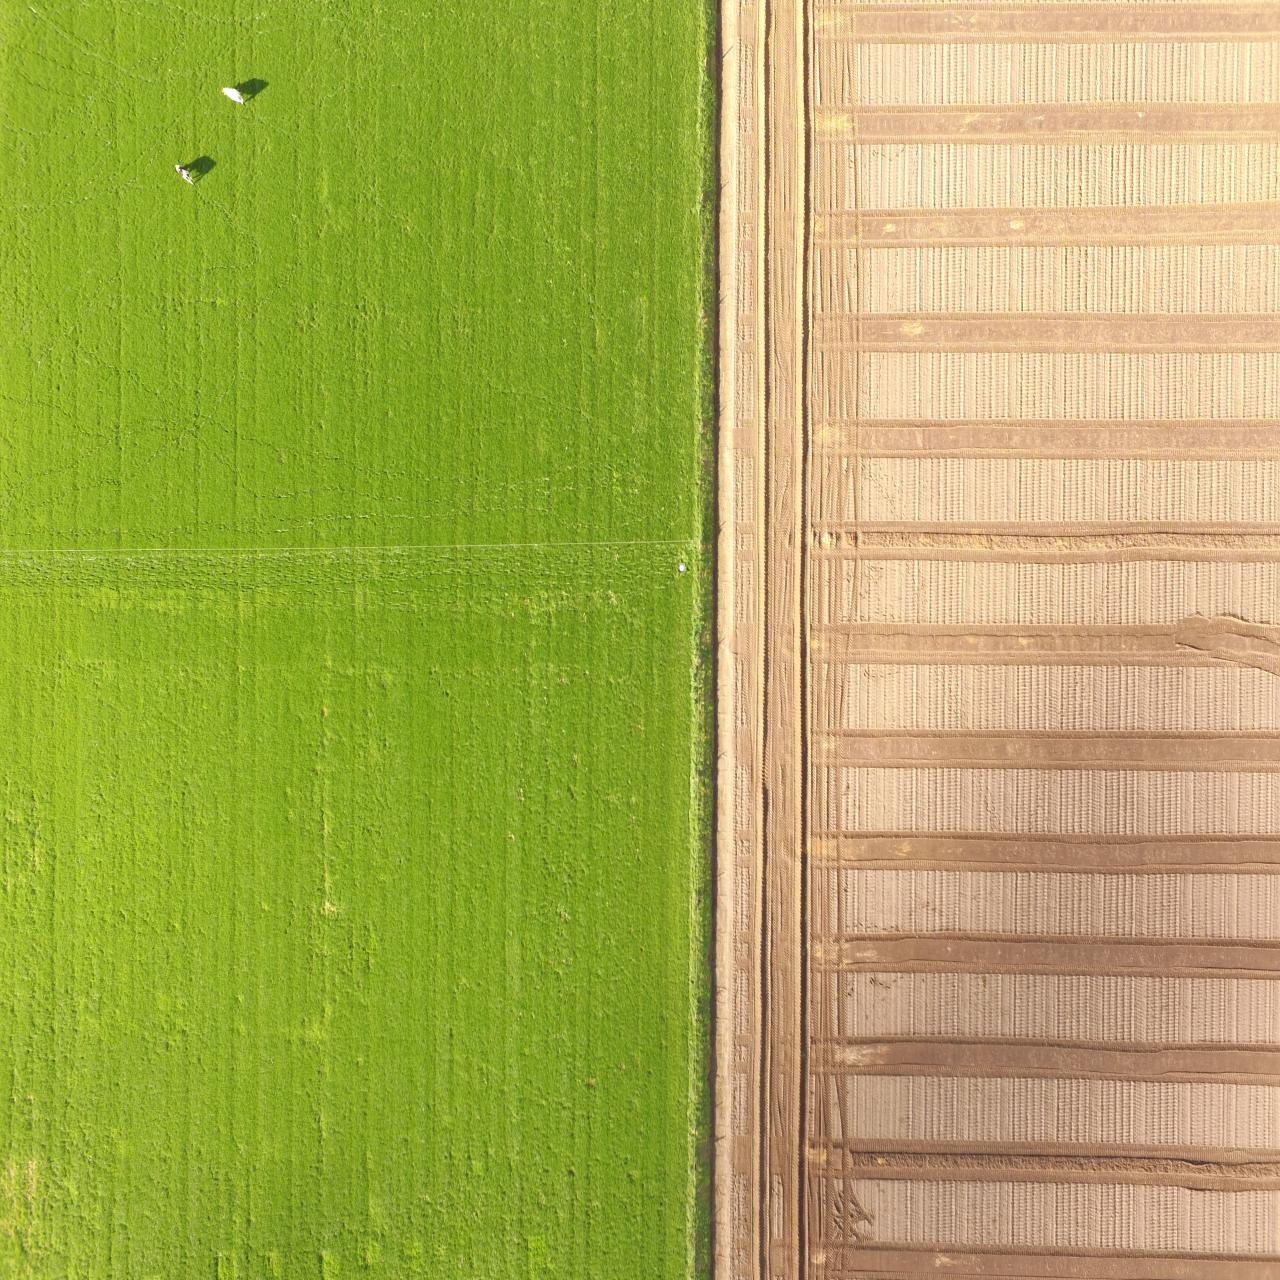cow: (220, 85, 246, 107), (173, 164, 195, 186)
